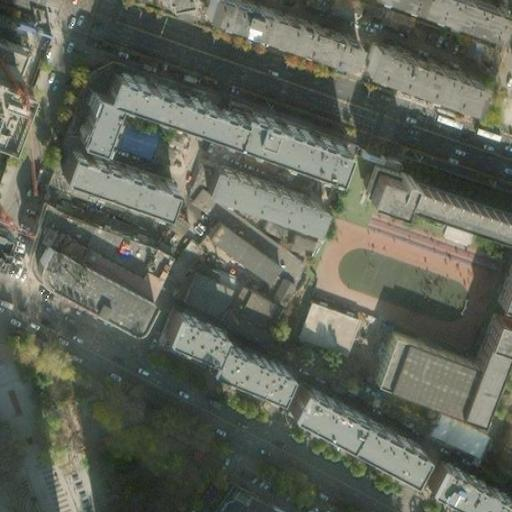building: (359, 160, 512, 293), (366, 326, 512, 430), (280, 378, 414, 470), (153, 310, 283, 404), (31, 251, 148, 336), (196, 0, 355, 61), (98, 61, 233, 130), (357, 38, 478, 106), (195, 151, 317, 215), (225, 102, 341, 167), (42, 227, 146, 295), (52, 143, 167, 203), (196, 217, 273, 282), (420, 462, 512, 512), (289, 297, 353, 351), (173, 264, 230, 318), (406, 0, 501, 31), (68, 81, 112, 139), (232, 286, 281, 331), (111, 121, 162, 162), (212, 485, 285, 512), (286, 230, 320, 261), (270, 273, 298, 306)
